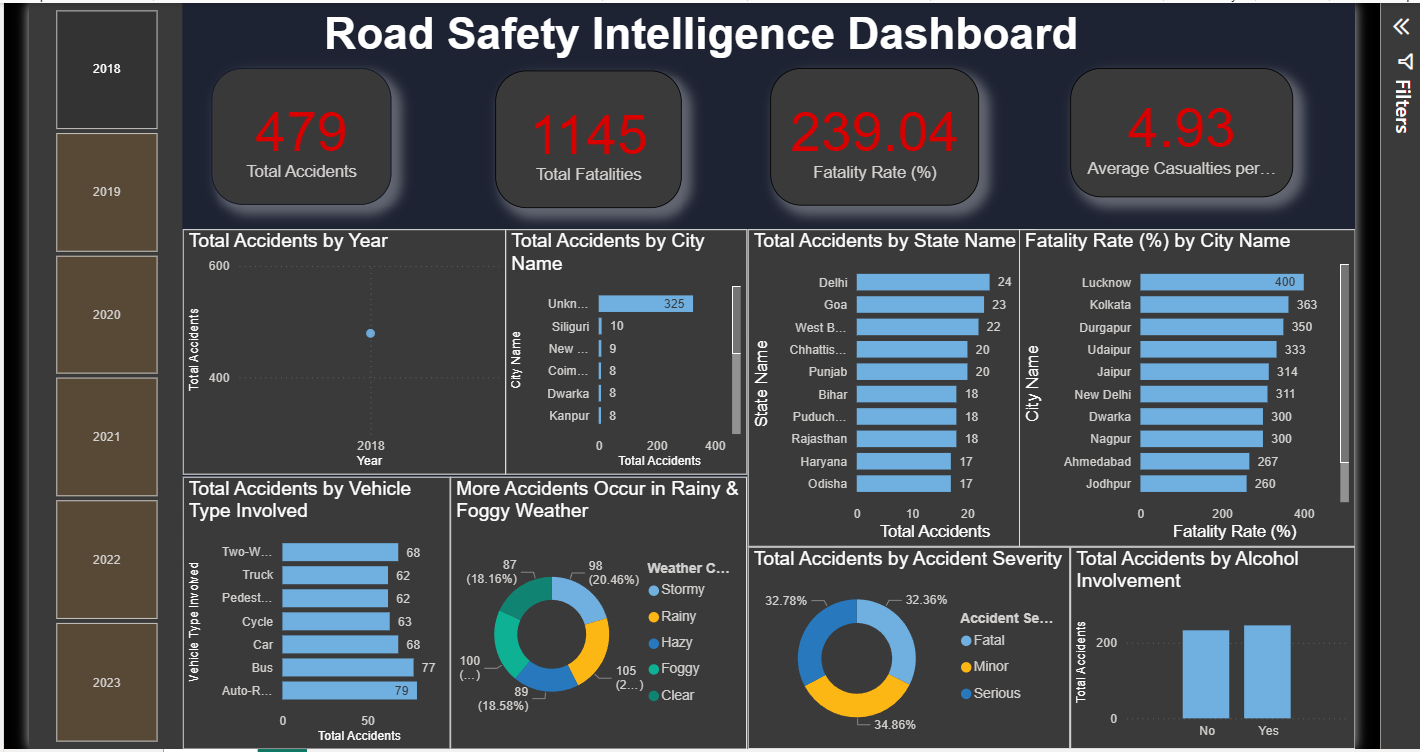

This screenshot's page, from the dashboard's own definition file:
{"tool":"powerbi","page":{"name":"Page 1","canvas":[1280,720],"ordinal":0},"visuals":[{"type":"shape","box":[0,0,70,720],"z":0},{"type":"card","fields":{"Values":["67f16886d4ecb.Total Accidents"]},"box":[176.7,63.3,173.3,131.7],"z":1000},{"type":"card","fields":{"Values":["67f16886d4ecb.Total Fatalities"]},"box":[450,65.1,179.8,132.7],"z":2000},{"type":"clusteredBarChart","fields":{"Category":["67f16886d4ecb.City Name"],"Y":["67f16886d4ecb.Total Accidents"]},"box":[460,218.3,233.3,236.7],"z":3000},{"type":"lineChart","fields":{"Category":["67f16886d4ecb.Year"],"Y":["67f16886d4ecb.Total Accidents"]},"box":[148.3,218.3,311.7,236.7],"z":4000},{"type":"card","fields":{"Values":["67f16886d4ecb.Fatality Rate (%)"]},"box":[715.4,62.7,201.5,132.7],"z":5000},{"type":"card","fields":{"Values":["67f16886d4ecb.Average Casualties per Accident"]},"box":[1005,63.3,215,125],"z":6000},{"type":"clusteredBarChart","fields":{"Category":["67f16886d4ecb.State Name"],"Y":["67f16886d4ecb.Total Accidents"]},"box":[693.7,218.4,277.5,306.4],"z":7000},{"type":"clusteredBarChart","fields":{"Category":["67f16886d4ecb.City Name"],"Y":["67f16886d4ecb.Fatality Rate (%)"]},"box":[955.5,218.4,324.5,306.4],"z":8000},{"type":"donutChart","fields":{"Category":["67f16886d4ecb.Accident Severity"],"Y":["67f16886d4ecb.Total Accidents"]},"box":[693.7,524.8,311.3,195.4],"z":9000},{"type":"donutChart","title":"More Accidents Occur in Rainy & Foggy Weather","fields":{"Category":["67f16886d4ecb.Weather Conditions"],"Y":["67f16886d4ecb.Total Accidents"]},"box":[406.7,456.7,286.7,263.3],"z":10000},{"type":"clusteredBarChart","fields":{"Category":["67f16886d4ecb.Vehicle Type Involved"],"Y":["67f16886d4ecb.Total Accidents"]},"box":[148.3,456.7,258.3,263.3],"z":11000},{"type":"columnChart","fields":{"Category":["67f16886d4ecb.Alcohol Involvement"],"Y":["67f16886d4ecb.Total Accidents"]},"box":[1005,525,275,195],"z":12000},{"type":"slicer","title":"Select Year","fields":{"Values":["67f16886d4ecb.Year"]},"box":[0,0,148.3,720],"z":13000},{"type":"textbox","box":[18.3,0,1261.7,65],"z":14000}]}

Visuals, with their boxes in screenshot pixels (x1, y1, x2, y2):
shape: [x1=0, y1=0, x2=72, y2=740]
card - 67f16886d4ecb.Total Accidents: [x1=182, y1=65, x2=360, y2=200]
card - 67f16886d4ecb.Total Fatalities: [x1=463, y1=67, x2=648, y2=203]
clusteredBarChart - 67f16886d4ecb.City Name x 67f16886d4ecb.Total Accidents: [x1=473, y1=224, x2=713, y2=468]
lineChart - 67f16886d4ecb.Year x 67f16886d4ecb.Total Accidents: [x1=152, y1=224, x2=473, y2=468]
card - 67f16886d4ecb.Fatality Rate (%): [x1=736, y1=64, x2=943, y2=201]
card - 67f16886d4ecb.Average Casualties per Accident: [x1=1033, y1=65, x2=1254, y2=194]
clusteredBarChart - 67f16886d4ecb.State Name x 67f16886d4ecb.Total Accidents: [x1=713, y1=225, x2=999, y2=540]
clusteredBarChart - 67f16886d4ecb.City Name x 67f16886d4ecb.Fatality Rate (%): [x1=982, y1=225, x2=1316, y2=540]
donutChart - 67f16886d4ecb.Accident Severity x 67f16886d4ecb.Total Accidents: [x1=713, y1=540, x2=1033, y2=741]
"More Accidents Occur in Rainy & Foggy Weather" donutChart: [x1=418, y1=470, x2=713, y2=740]
clusteredBarChart - 67f16886d4ecb.Vehicle Type Involved x 67f16886d4ecb.Total Accidents: [x1=152, y1=470, x2=418, y2=740]
columnChart - 67f16886d4ecb.Alcohol Involvement x 67f16886d4ecb.Total Accidents: [x1=1033, y1=540, x2=1316, y2=740]
"Select Year" slicer: [x1=0, y1=0, x2=152, y2=740]
textbox: [x1=19, y1=0, x2=1316, y2=67]
